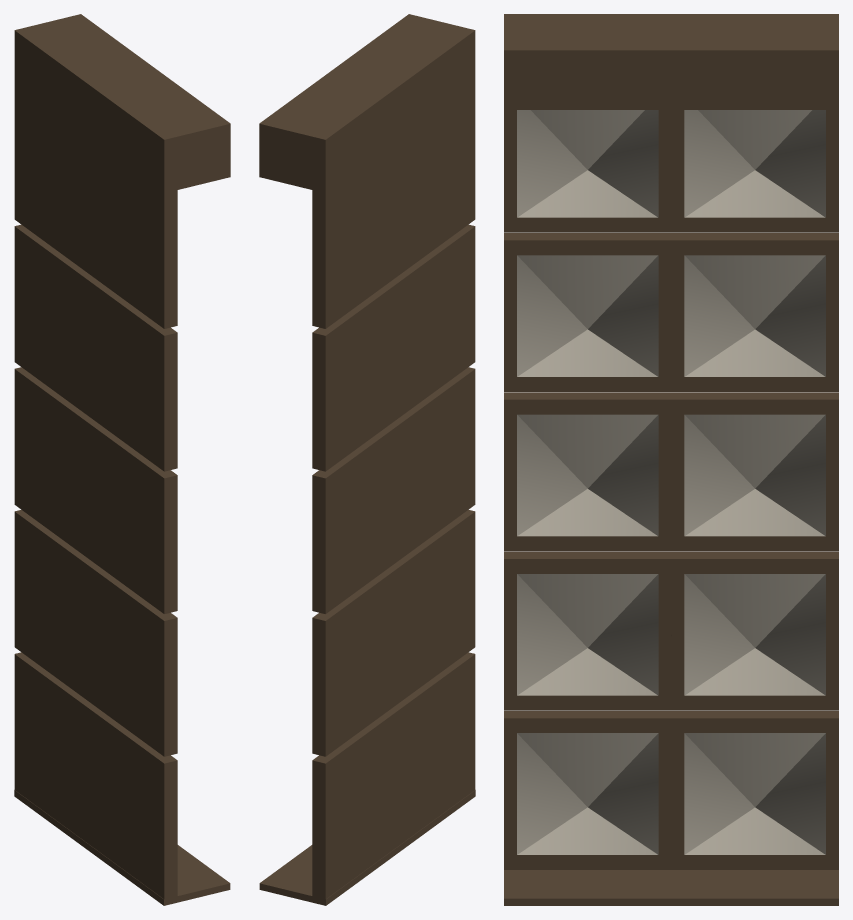
The model's file is SM_receptionCounterDeco_02.glb.
3 renders of one model, left to right at view 1: azimuth 30°, elevation 25°; view 2: azimuth 150°, elevation 25°; view 3: azimuth 270°, elevation 25°, orthographic. The views are drawn at different scales.
Parts seen in each view (by area): view 1: SM_receptionCounterDeco_02; view 2: SM_receptionCounterDeco_02; view 3: SM_receptionCounterDeco_02.
Part boxes in pixels (x1,y1,x2,y2): SM_receptionCounterDeco_02: [14, 14, 230, 905]; SM_receptionCounterDeco_02: [259, 14, 475, 905]; SM_receptionCounterDeco_02: [504, 14, 838, 905].
Size of the model in its own units: 0.2574 by 2.82 by 1.
1 material, 1 textured.
